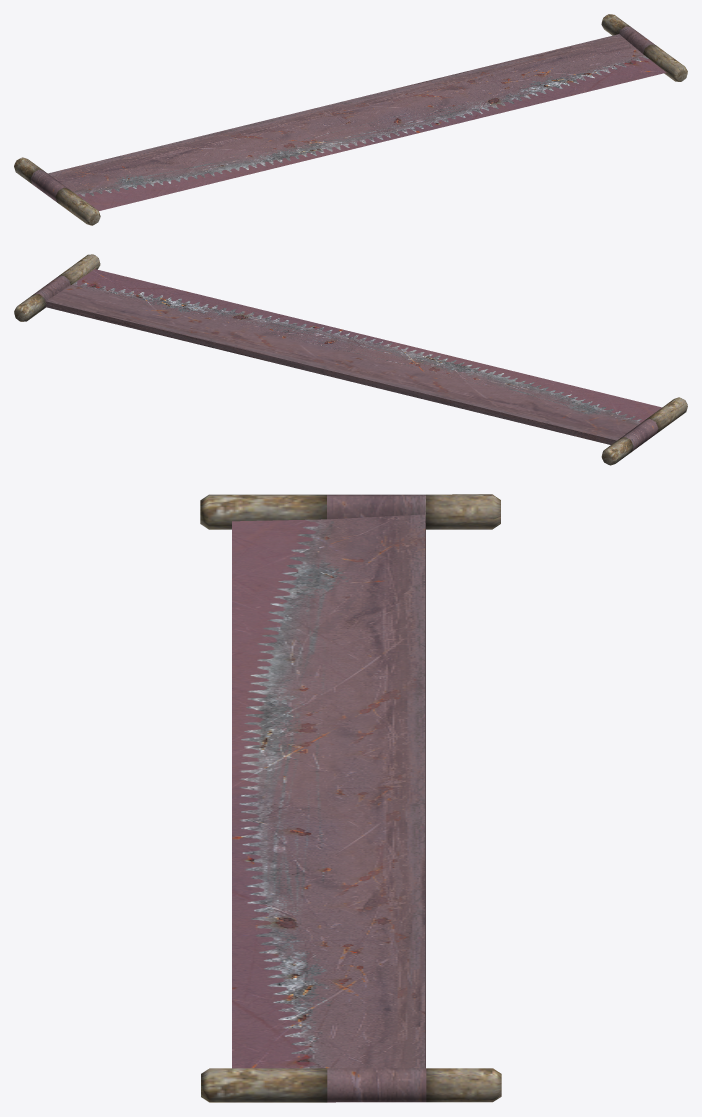
Rendered from Saw.fbx.
3 renders of one model, top to bottom at view 1: azimuth 30°, elevation 25°; view 2: azimuth 150°, elevation 25°; view 3: azimuth 270°, elevation 25°, orthographic. The views are drawn at different scales.
Parts seen in each view (by area): view 1: polySurface143; view 2: polySurface143; view 3: polySurface143.
Part boxes in pixels (x1,y1,x2,y2): polySurface143: (14, 14, 687, 225); polySurface143: (14, 254, 687, 465); polySurface143: (200, 494, 501, 1102).
Size of the model in its own units: 2.15 by 0.0557 by 0.4638.
1 material, 1 textured.
